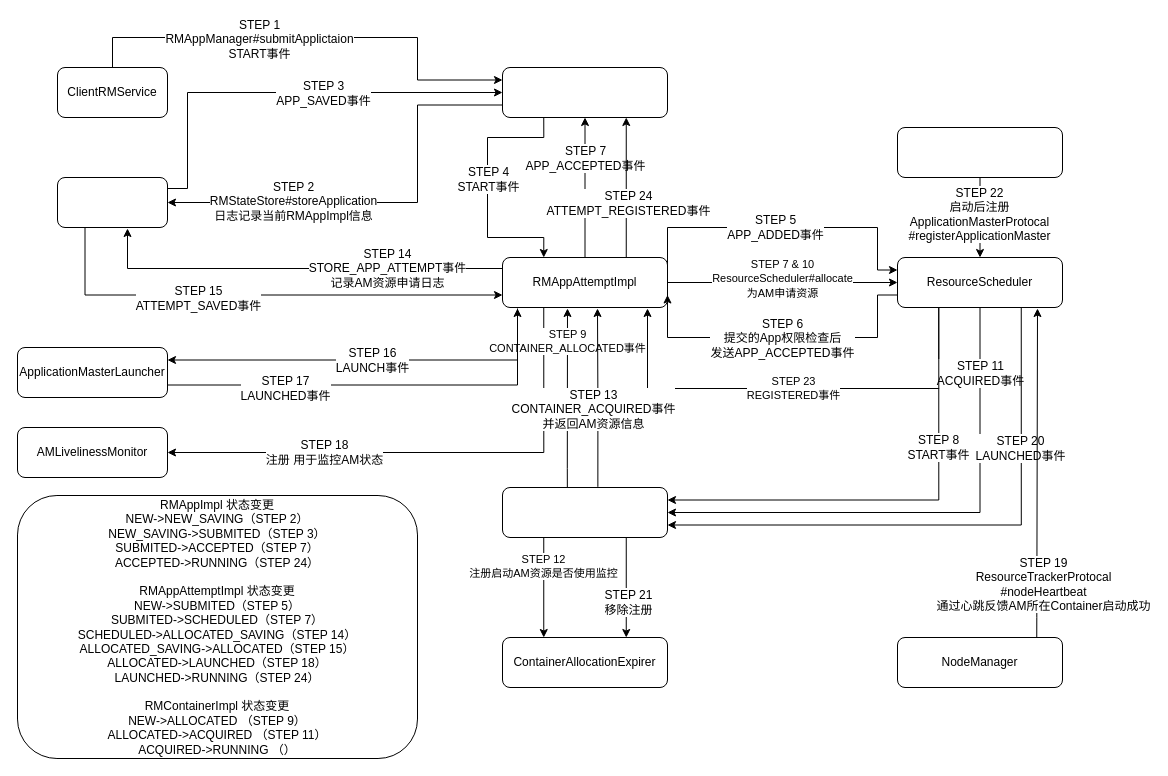
Some shapes in this 1168 by 776 pixel diagram are drawn without their labels. The shapes that lost their labels are listed below. From the top down, each one's centre as x and y in pixels, then its label:
At point (585, 92): "RMAppImpl".
At point (979, 152): "ApplicationMaster".
At point (112, 202): "RMStateStore".
At point (585, 512): "RMContainImpl".
